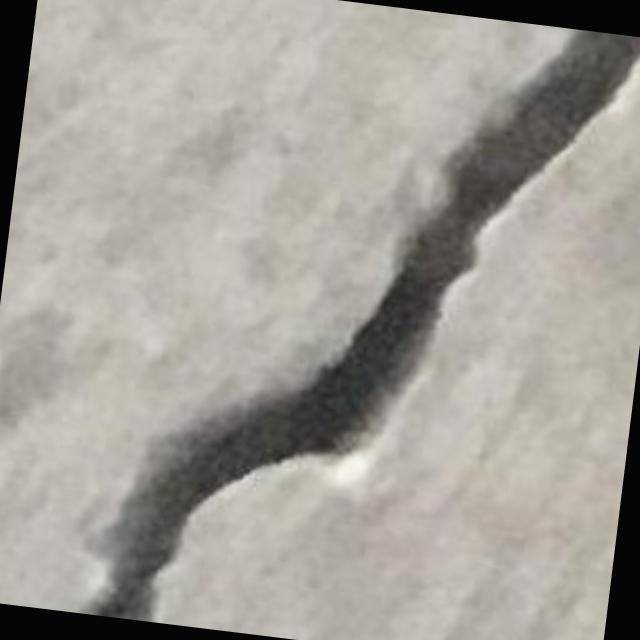crack: (87, 29, 639, 621)
